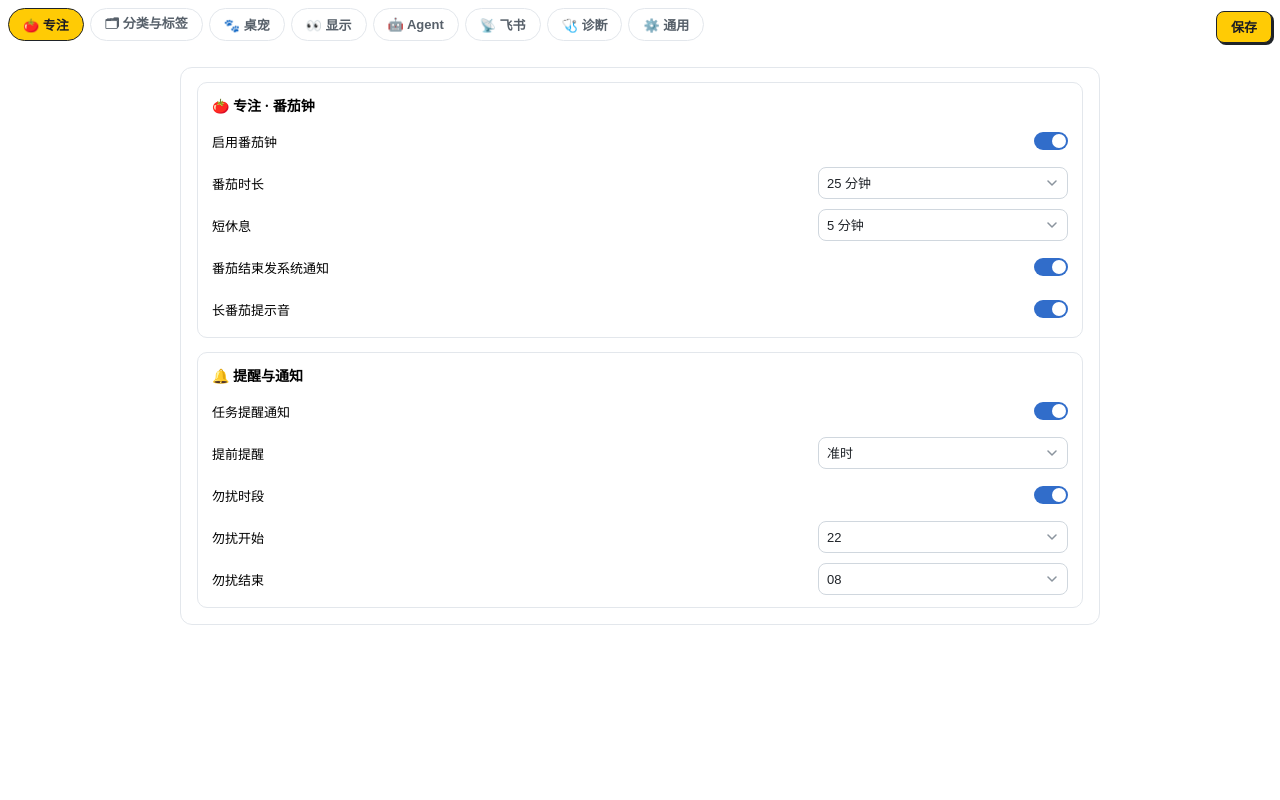
Test: 分区内容对齐主应用（U20） › 显示分区：时间制式带实时预览（24h ↔ 12h）
Click the tab "👀 显示". click: (329, 24)
box: x1=291 y1=8 x2=367 y2=41
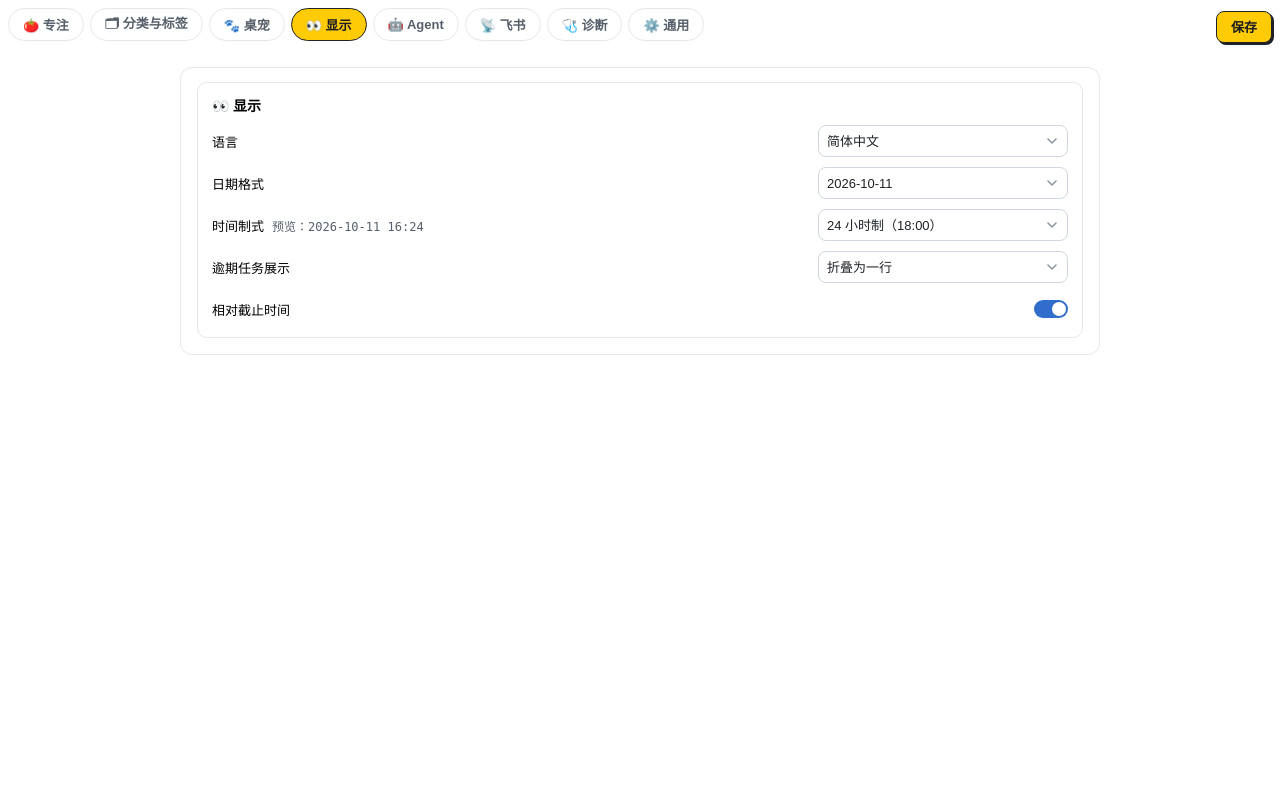
Expected: the text with test id "display-preview" shows "2026-10-11 16:24", x1=272 y1=220 x2=424 y2=234
Select "12 小时制（6:00 PM）" in the dropdown showing "24 小时制（18:00）". click: (943, 225)
box: x1=818 y1=209 x2=1068 y2=241
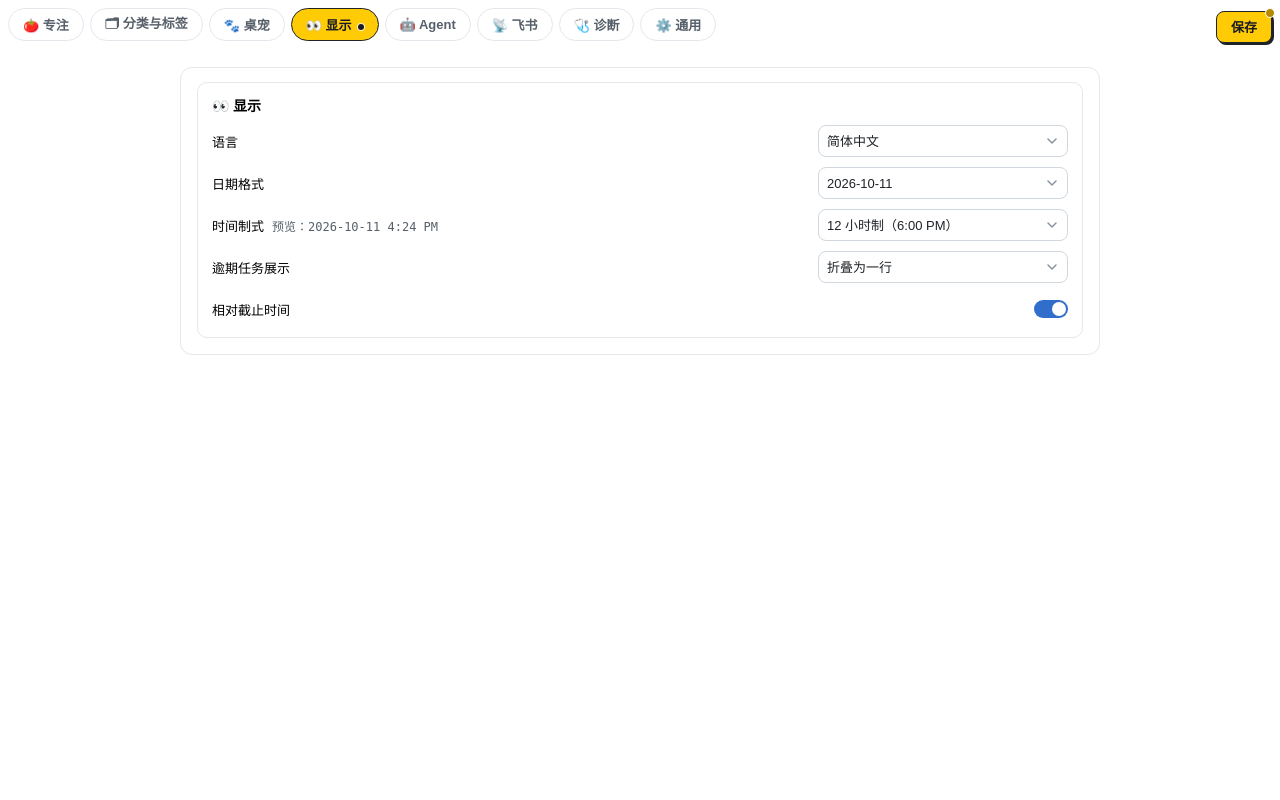
Expected: the text with test id "display-preview" shows "4:24 PM", x1=272 y1=220 x2=438 y2=234
